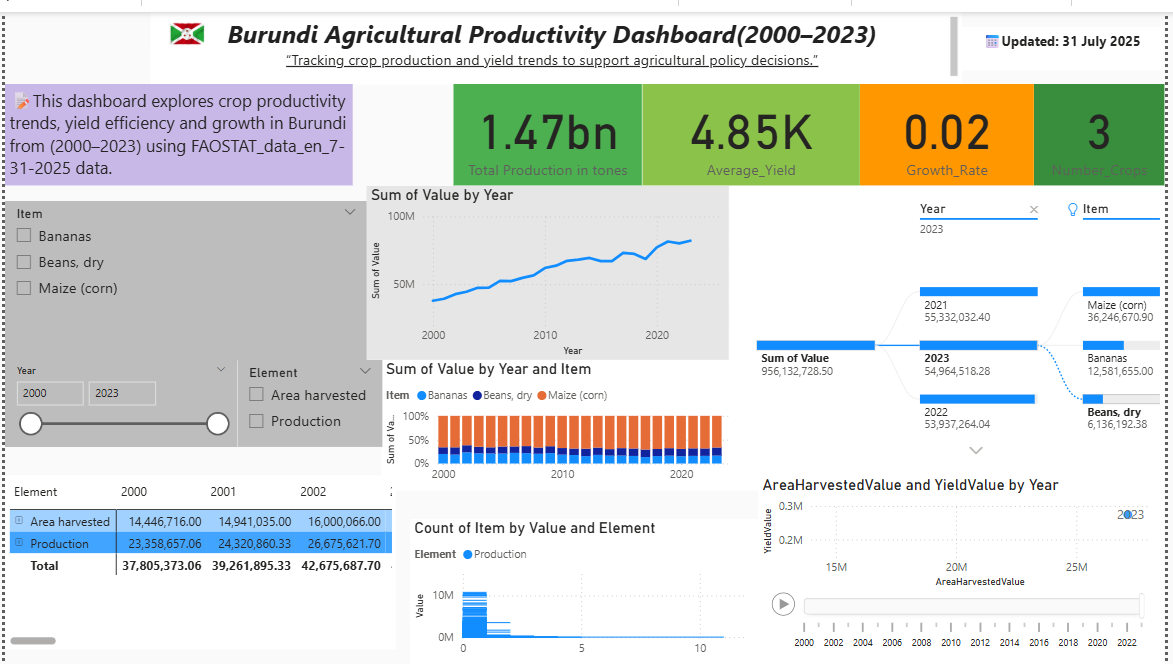

The page's visual inventory and layout, read from the dashboard file:
{"tool":"powerbi","page":{"name":"Page 1","canvas":[1280,720],"ordinal":0},"visuals":[{"type":"textbox","box":[160,0,896,80],"z":0},{"type":"card","fields":{"Values":["FAOSTAT_data_en_7-31-2025.Total Production"]},"box":[496,80,208,112],"z":1000},{"type":"card","fields":{"Values":["FAOSTAT_data_en_7-31-2025.Average_Yield"]},"box":[704,80,240,112],"z":2000},{"type":"card","fields":{"Values":["FAOSTAT_data_en_7-31-2025.Growth_Rate"]},"box":[944,80,192,112],"z":3000},{"type":"card","fields":{"Values":["FAOSTAT_data_en_7-31-2025.Number_Crops"]},"box":[1136,80,144,112],"z":4000},{"type":"slicer","fields":{"Values":["FAOSTAT_data_en_7-31-2025.Item"]},"box":[0,208,400,176],"z":5000},{"type":"slicer","fields":{"Values":["FAOSTAT_data_en_7-31-2025.Year"]},"box":[0,384,256,96],"z":6000},{"type":"lineChart","fields":{"Category":["FAOSTAT_data_en_7-31-2025.Year"],"Y":["Sum(FAOSTAT_data_en_7-31-2025.Value)"]},"box":[400,192,400,192],"z":7000},{"type":"clusteredBarChart","fields":{"Y":["CountNonNull(FAOSTAT_data_en_7-31-2025.Item)"],"Category":["FAOSTAT_data_en_7-31-2025.Value"],"Series":["FAOSTAT_data_en_7-31-2025.Element"]},"box":[448,560,384,160],"z":8000},{"type":"hundredPercentStackedColumnChart","fields":{"Category":["FAOSTAT_data_en_7-31-2025.Year"],"Y":["Sum(FAOSTAT_data_en_7-31-2025.Value)"],"Series":["FAOSTAT_data_en_7-31-2025.Item"]},"box":[416,384,416,144],"z":9000},{"type":"scatterChart","fields":{"X":["FAOSTAT_data_en_7-31-2025.AreaHarvestedValue"],"Y":["FAOSTAT_data_en_7-31-2025.YieldValue"],"Play":["FAOSTAT_data_en_7-31-2025.Year"]},"box":[832,512,448,208],"z":10000},{"type":"decompositionTreeVisual","fields":{"Analyze":["Sum(FAOSTAT_data_en_7-31-2025.Value)"],"ExplainBy":["FAOSTAT_data_en_7-31-2025.Year","FAOSTAT_data_en_7-31-2025.Item","FAOSTAT_data_en_7-31-2025.Unit"]},"box":[800,192,480,320],"z":11000},{"type":"pivotTable","fields":{"Rows":["FAOSTAT_data_en_7-31-2025.Element","FAOSTAT_data_en_7-31-2025.Item"],"Columns":["FAOSTAT_data_en_7-31-2025.Year"],"Values":["Sum(FAOSTAT_data_en_7-31-2025.Value)"]},"box":[0,512,432,192],"z":12000},{"type":"slicer","fields":{"Values":["FAOSTAT_data_en_7-31-2025.Element"]},"box":[256,384,160,96],"z":13000},{"type":"textbox","box":[1056,16,224,48],"z":14000},{"type":"textbox","box":[0,80,384,112],"z":15000},{"type":"image","box":[160,0,80,48],"z":16000}]}

Visuals, with their boxes on the page's 1280x720 design canvas (x1, y1, x2, y2). These are canvas units, not pixel positions in the 1173x664 screenshot, which may show the page scaled, cropped or inside an application window:
textbox: bbox=(160, 0, 1056, 80)
card - FAOSTAT_data_en_7-31-2025.Total Production: bbox=(496, 80, 704, 192)
card - FAOSTAT_data_en_7-31-2025.Average_Yield: bbox=(704, 80, 944, 192)
card - FAOSTAT_data_en_7-31-2025.Growth_Rate: bbox=(944, 80, 1136, 192)
card - FAOSTAT_data_en_7-31-2025.Number_Crops: bbox=(1136, 80, 1280, 192)
slicer - FAOSTAT_data_en_7-31-2025.Item: bbox=(0, 208, 400, 384)
slicer - FAOSTAT_data_en_7-31-2025.Year: bbox=(0, 384, 256, 480)
lineChart - FAOSTAT_data_en_7-31-2025.Year x Sum(FAOSTAT_data_en_7-31-2025.Value): bbox=(400, 192, 800, 384)
clusteredBarChart - CountNonNull(FAOSTAT_data_en_7-31-2025.Item) x FAOSTAT_data_en_7-31-2025.Value: bbox=(448, 560, 832, 720)
hundredPercentStackedColumnChart - FAOSTAT_data_en_7-31-2025.Year x Sum(FAOSTAT_data_en_7-31-2025.Value): bbox=(416, 384, 832, 528)
scatterChart - FAOSTAT_data_en_7-31-2025.AreaHarvestedValue x FAOSTAT_data_en_7-31-2025.YieldValue: bbox=(832, 512, 1280, 720)
decompositionTreeVisual - Sum(FAOSTAT_data_en_7-31-2025.Value) x FAOSTAT_data_en_7-31-2025.Year: bbox=(800, 192, 1280, 512)
pivotTable - FAOSTAT_data_en_7-31-2025.Element x FAOSTAT_data_en_7-31-2025.Item: bbox=(0, 512, 432, 704)
slicer - FAOSTAT_data_en_7-31-2025.Element: bbox=(256, 384, 416, 480)
textbox: bbox=(1056, 16, 1280, 64)
textbox: bbox=(0, 80, 384, 192)
image: bbox=(160, 0, 240, 48)
